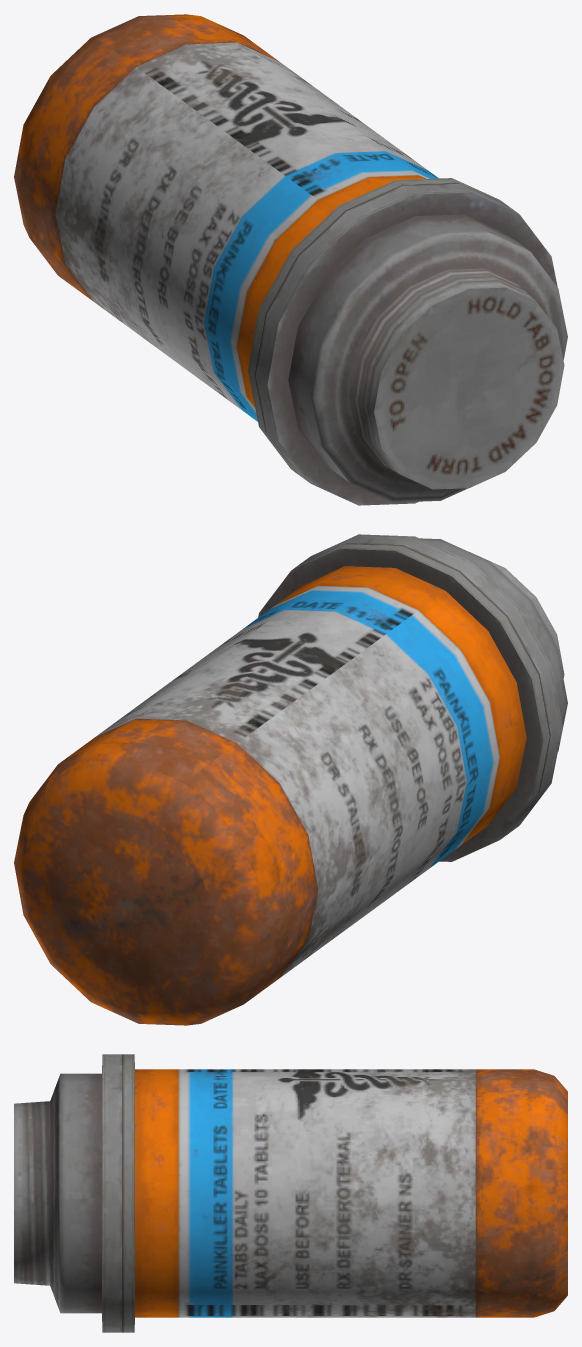
File: Painkiller.fbx
3 views of the same model, one above another, from view 1: azimuth 30°, elevation 25°; view 2: azimuth 150°, elevation 25°; view 3: azimuth 270°, elevation 25° (orthographic). The views are drawn at different scales.
Visible parts, largest first — view 1: Painkiller; view 2: Painkiller; view 3: Painkiller.
Part boxes in pixels (<box>): Painkiller: <box>14,14,567,505</box>; Painkiller: <box>14,534,567,1025</box>; Painkiller: <box>14,1054,567,1332</box>.
Bounding box in the file's own units: 27.42 × 27.42 × 54.47.
